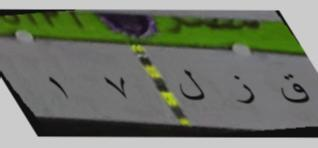1: (47, 73, 71, 105)
7: (104, 70, 128, 102)
laam: (177, 62, 205, 107)
qaaf: (275, 68, 311, 110)
zay: (227, 70, 258, 114)
